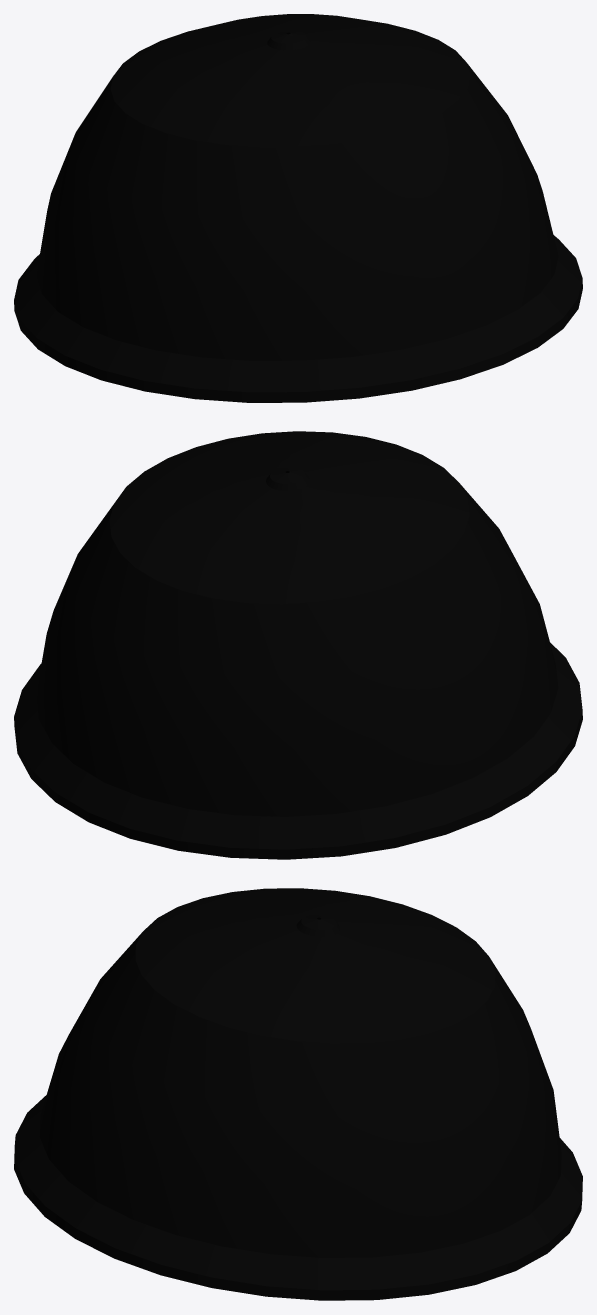
File: venomity_hat.fbx
3 renders of one model, top to bottom at view 1: azimuth 30°, elevation 25°; view 2: azimuth 150°, elevation 25°; view 3: azimuth 270°, elevation 25°, orthographic.
Visible parts, largest first — view 1: Hat.001; view 2: Hat.001; view 3: Hat.001.
Part boxes in pixels (box(x1,y1,x2,y2)): Hat.001: box(14, 14, 582, 402); Hat.001: box(14, 431, 582, 859); Hat.001: box(14, 888, 582, 1300).
Bounding box in the file's own units: 1337 × 722 × 1335.
